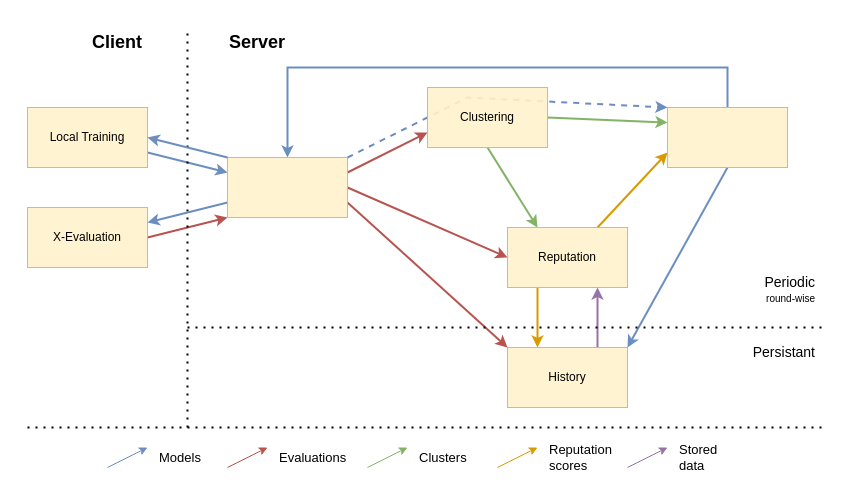
This 854x504 diagram has some shape labels left out. The shapes that lost their labels are listed below. From the top down, each one's centre as x and y in pixels, then its label:
At pixel 727 137: "Aggregation".
At pixel 287 187: "Orchestration".
